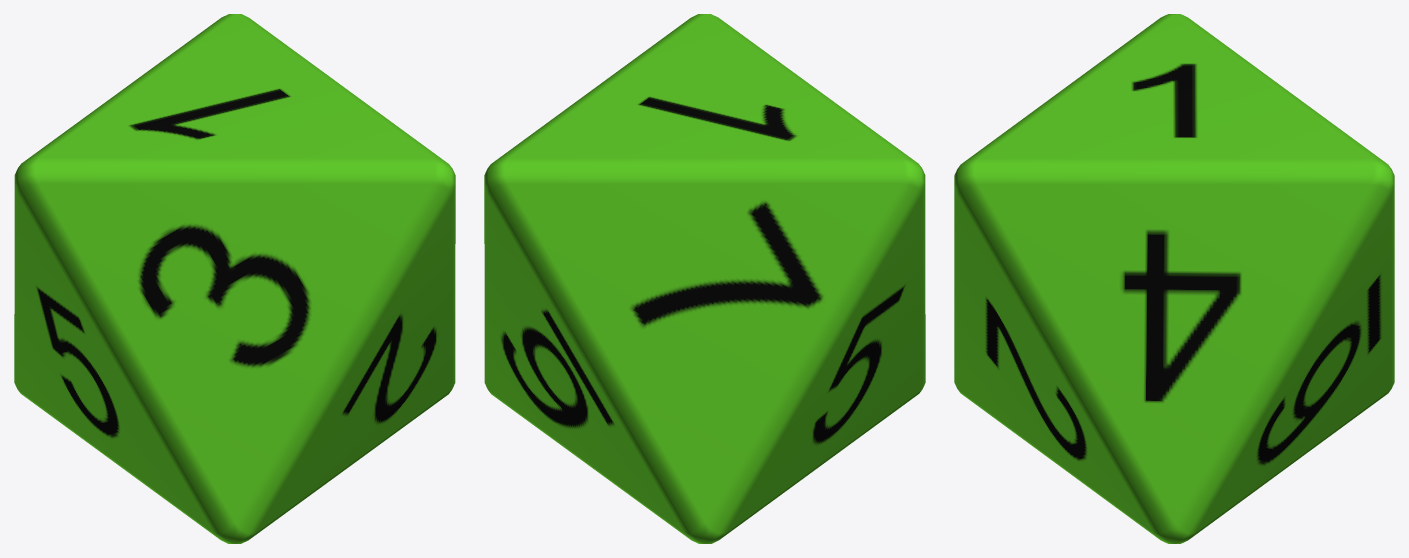
3 views of the same model, side by side, from view 1: azimuth 30°, elevation 25°; view 2: azimuth 150°, elevation 25°; view 3: azimuth 270°, elevation 25° (orthographic).
Visible parts, largest first — view 1: node_id6; view 2: node_id6; view 3: node_id6.
Part boxes in pixels (box(x1,y1,x2,y2)): node_id6: box(14, 14, 455, 543); node_id6: box(484, 14, 925, 543); node_id6: box(954, 14, 1394, 543).
Size of the model in its own units: 0.512 by 0.3808 by 0.45.
1 material, 1 textured.
